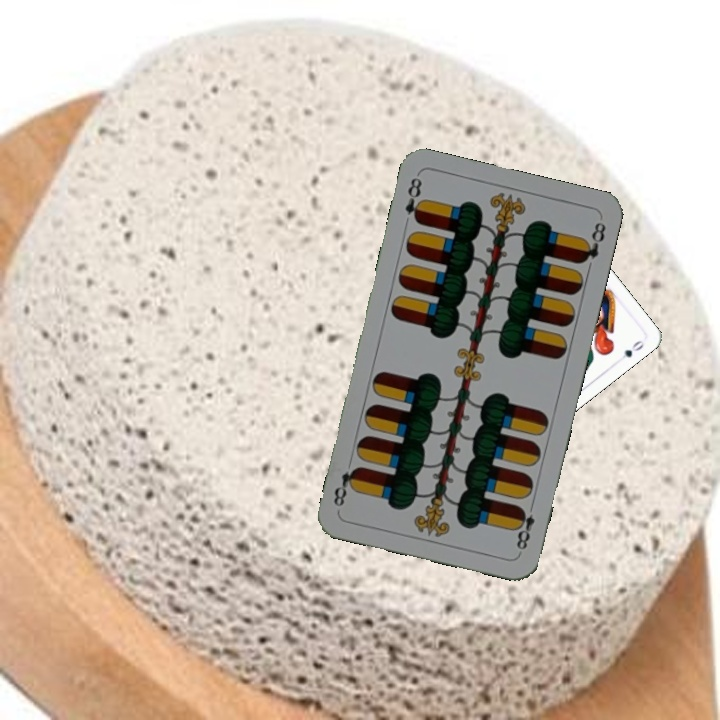E8: (511, 498, 538, 556), (401, 173, 427, 226)
